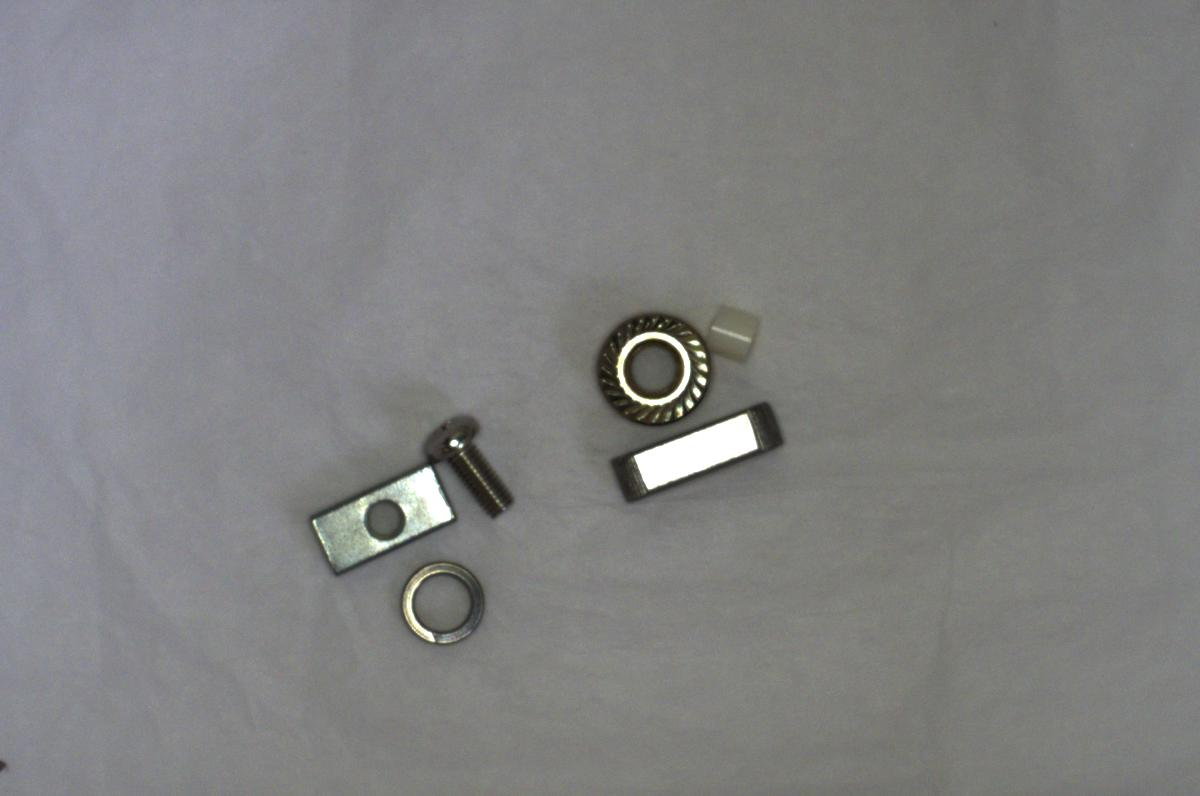Flange nut: (587, 308, 713, 422)
Keybar: (606, 400, 786, 502)
Plastic cushion pillar: (698, 296, 765, 366)
Rectangular nut: (312, 456, 455, 578)
Round head screw: (414, 407, 518, 521)
Spring washer: (394, 554, 490, 654)
